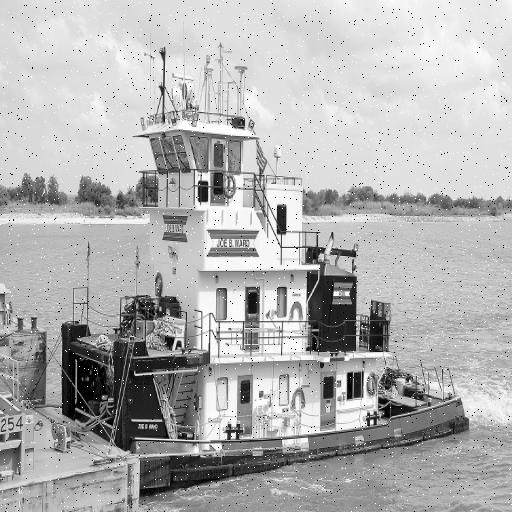tugboat: (59, 42, 476, 498)
